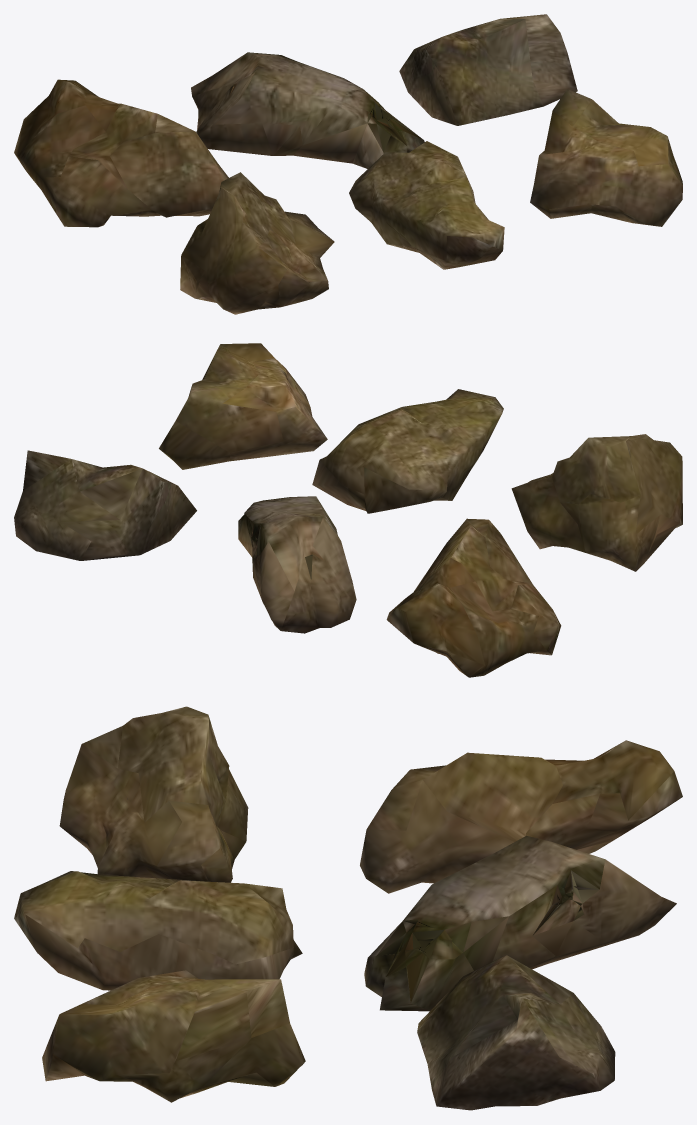
3 views of the same model, one above another, from view 1: azimuth 30°, elevation 25°; view 2: azimuth 150°, elevation 25°; view 3: azimuth 270°, elevation 25° (orthographic). The views are drawn at different scales.
Parts seen in each view (by area): view 1: rock_moss_set_01_rock01; view 2: rock_moss_set_01_rock01; view 3: rock_moss_set_01_rock01.
Part boxes in pixels (left/top/right/bottom): rock_moss_set_01_rock01: left=14, top=14, right=682, bottom=314; rock_moss_set_01_rock01: left=14, top=343, right=682, bottom=677; rock_moss_set_01_rock01: left=14, top=706, right=682, bottom=1110.
Bounding box in the file's own units: 7.99 × 1.74 × 6.96.
1 material, 1 textured.
